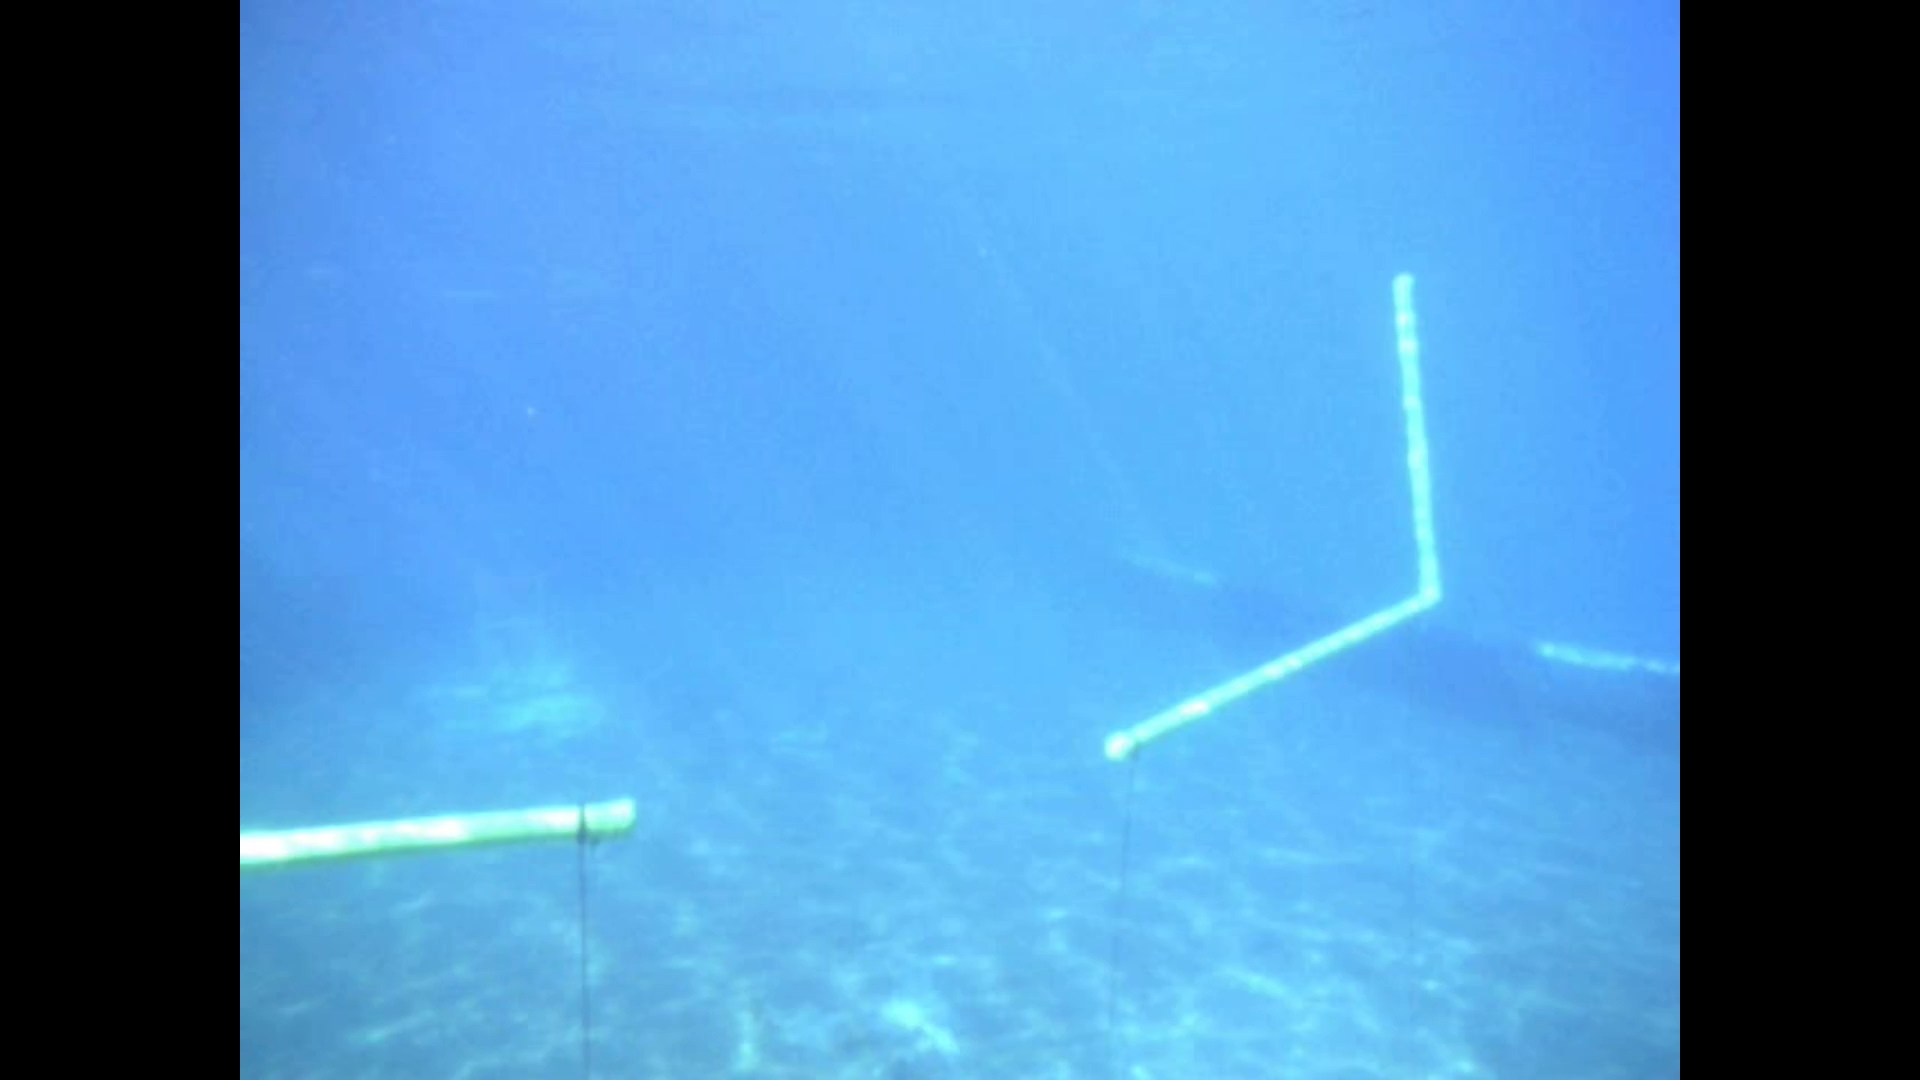gate: (1098, 265, 1449, 765)
